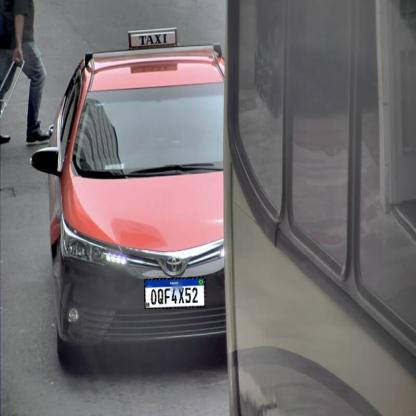PlacaM: (144, 277, 205, 309)
